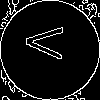V: (25, 25, 73, 60)
